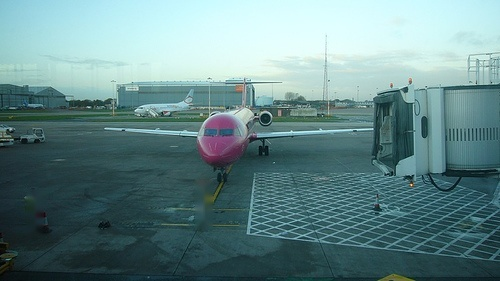aeroplane: (104, 78, 375, 183), (133, 88, 197, 123)
